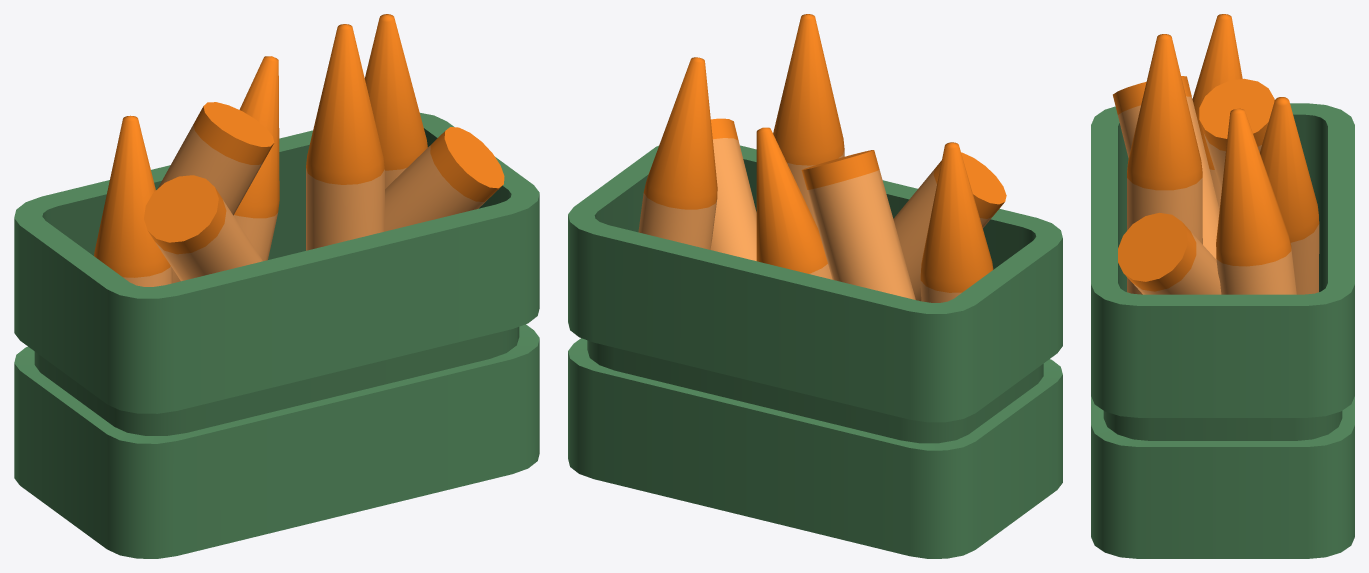
Rendered from Ammo Box С.fbx.
The picture shows the model from 3 angles, left to right: view 1: azimuth 30°, elevation 25°; view 2: azimuth 150°, elevation 25°; view 3: azimuth 270°, elevation 25°; orthographic projection. The views are drawn at different scales.
Parts seen in each view (by area): view 1: Ammo Box C.027, Ammo Box C.032, Ammo Box C.034, Ammo Box C.031, Ammo Box C.029, Ammo Box C.033, Ammo Box C.035, Ammo Box C.028; view 2: Ammo Box C.027, Ammo Box C.033, Ammo Box C.035, Ammo Box C.032, Ammo Box C.029, Ammo Box C.028, Ammo Box C.031, Ammo Box C.034; view 3: Ammo Box C.027, Ammo Box C.032, Ammo Box C.035, Ammo Box C.028, Ammo Box C.031, Ammo Box C.033, Ammo Box C.034, Ammo Box C.029.
Part boxes in pixels (bbox=[...]): Ammo Box C.027: bbox=[14, 113, 539, 558]; Ammo Box C.032: bbox=[306, 24, 384, 250]; Ammo Box C.034: bbox=[144, 175, 262, 281]; Ammo Box C.031: bbox=[385, 127, 504, 231]; Ammo Box C.029: bbox=[94, 115, 172, 286]; Ammo Box C.033: bbox=[157, 102, 274, 283]; Ammo Box C.035: bbox=[364, 14, 427, 188]; Ammo Box C.028: bbox=[233, 56, 279, 261]; Ammo Box C.027: bbox=[568, 145, 1062, 558]; Ammo Box C.033: bbox=[801, 150, 915, 299]; Ammo Box C.035: bbox=[638, 57, 717, 249]; Ammo Box C.032: bbox=[773, 14, 844, 227]; Ammo Box C.029: bbox=[920, 142, 993, 302]; Ammo Box C.028: bbox=[756, 127, 832, 279]; Ammo Box C.031: bbox=[710, 118, 756, 260]; Ammo Box C.034: bbox=[893, 152, 1006, 301]; Ammo Box C.027: bbox=[1091, 103, 1354, 558]; Ammo Box C.032: bbox=[1127, 34, 1202, 294]; Ammo Box C.035: bbox=[1216, 108, 1296, 294]; Ammo Box C.028: bbox=[1260, 97, 1319, 294]; Ammo Box C.031: bbox=[1118, 212, 1221, 294]; Ammo Box C.033: bbox=[1199, 78, 1274, 190]; Ammo Box C.034: bbox=[1113, 76, 1219, 259]; Ammo Box C.029: bbox=[1192, 14, 1242, 209].
Bounding box in the file's own units: 2.16 × 2.19 × 1.19.
